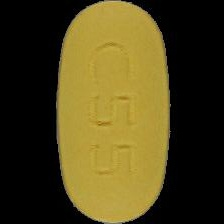65862-154: (0, 0, 224, 224)
